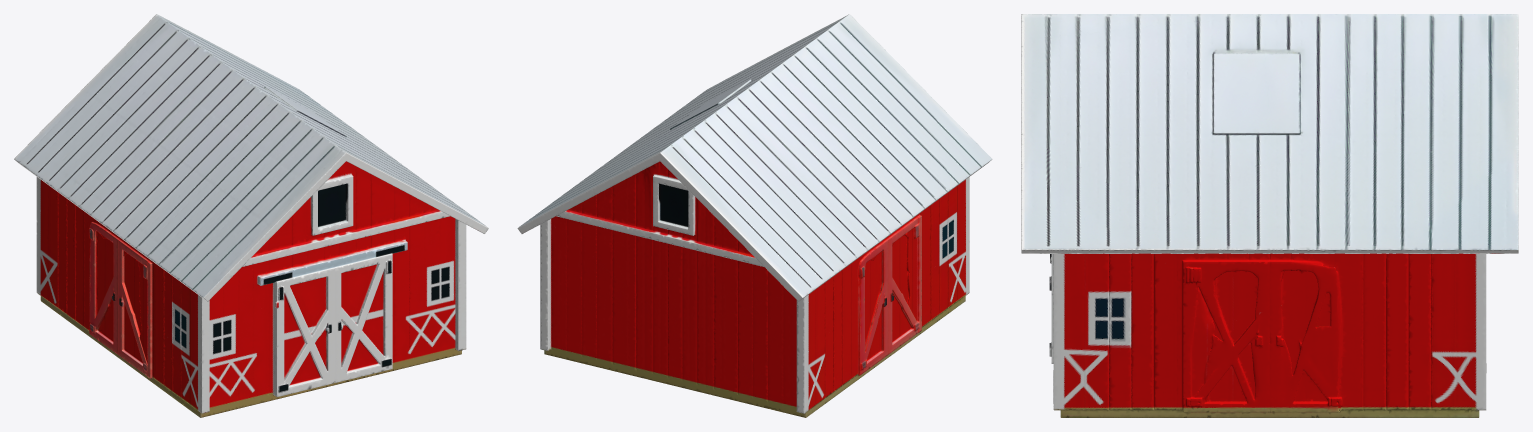
Rendered from Model_Warehouse.fbx.
3 views of the same model, side by side, from view 1: azimuth 30°, elevation 25°; view 2: azimuth 150°, elevation 25°; view 3: azimuth 270°, elevation 25° (orthographic). The views are drawn at different scales.
Parts seen in each view (by area): view 1: Mesh_0; view 2: Mesh_0; view 3: Mesh_0.
Boxes of the visible parts, box(x1,y1,x2,y2) form: Mesh_0: box(14, 14, 488, 417); Mesh_0: box(517, 14, 992, 417); Mesh_0: box(1021, 14, 1518, 417).
Size of the model in its own units: 1.65 by 1.35 by 1.9.
Materials: 1 (1 with a texture image).
